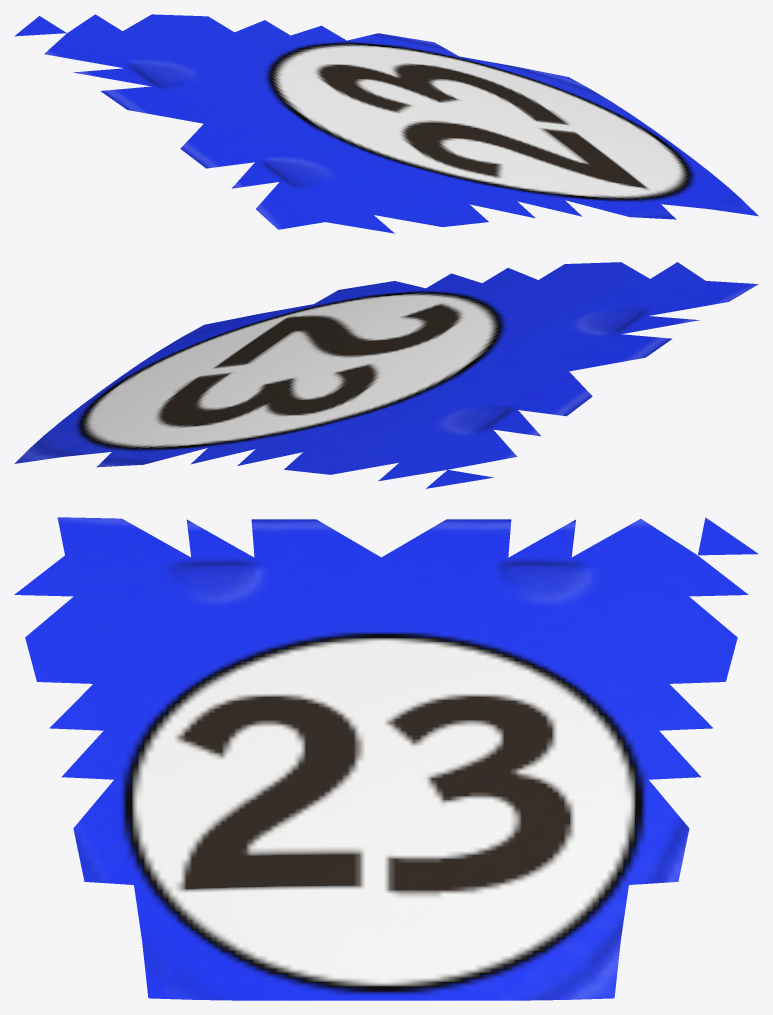
The model's file is Cofre.obj.
3 views of the same model, one above another, from view 1: azimuth 30°, elevation 25°; view 2: azimuth 150°, elevation 25°; view 3: azimuth 270°, elevation 25° (orthographic). The views are drawn at different scales.
Visible parts, largest first — view 1: Cofre; view 2: Cofre; view 3: Cofre.
Part boxes in pixels (left/top/right/bottom): Cofre: left=14, top=14, right=758, bottom=233; Cofre: left=14, top=262, right=758, bottom=488; Cofre: left=14, top=517, right=758, bottom=1000.
Size of the model in its own units: 3.63 by 0.9362 by 3.64.
